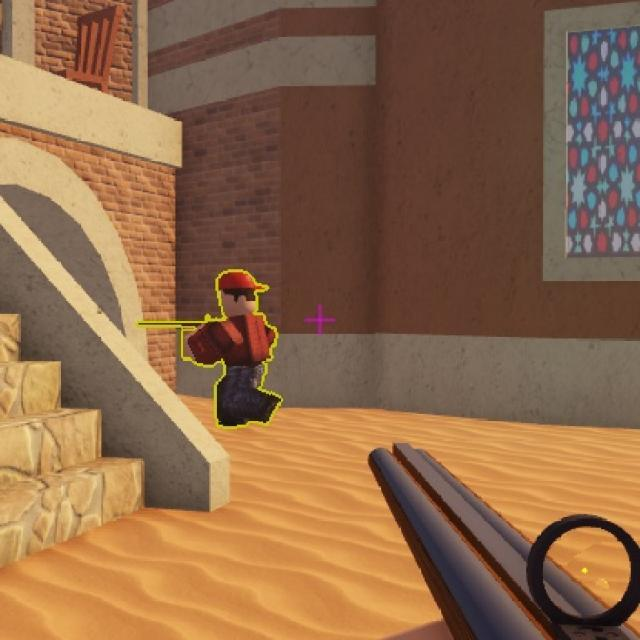player: (192, 261, 276, 427)
